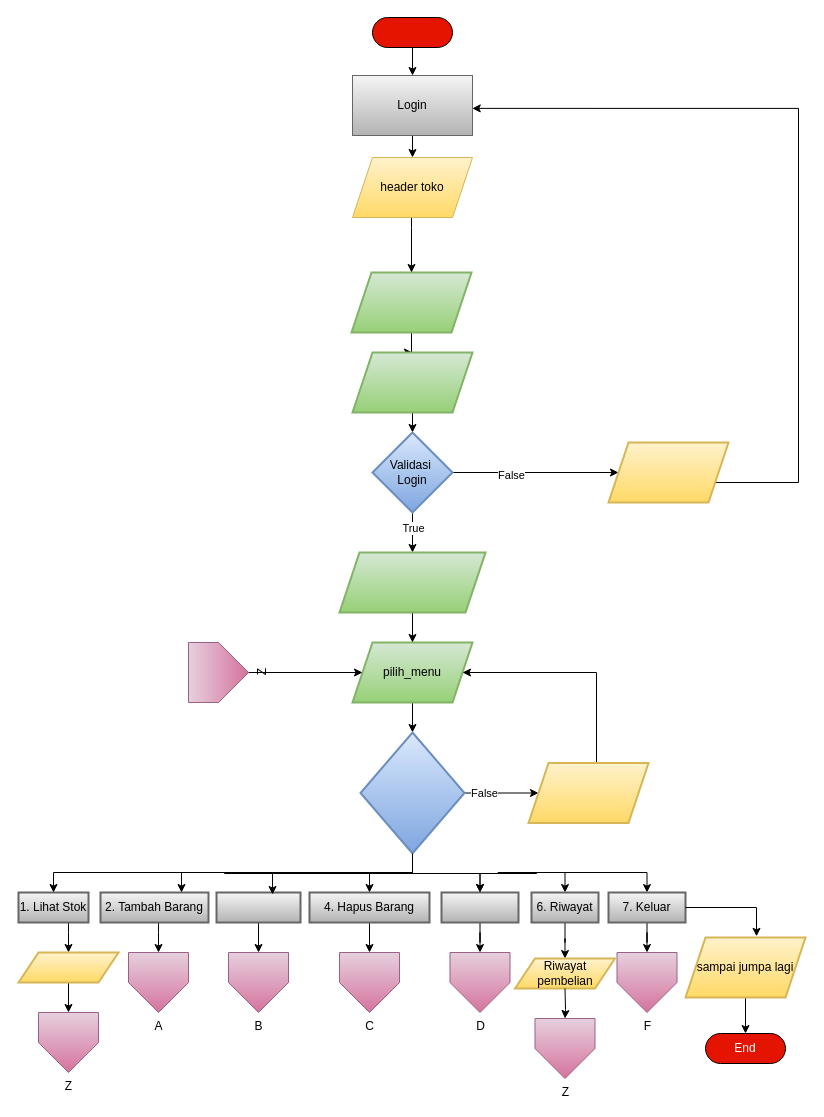
Some shapes in this 824 by 1117 pixel diagram are drawn without their labels. Each missing label, with the centre of its shape:
"3. Edit Barang" goes at (x=258, y=907).
"5. Chekout" goes at (x=479, y=907).
"Daftar Stok Barang" goes at (x=68, y=967).
"if pilih_menu >= 1 && pilih_menu <=6" goes at (x=412, y=792).
"Masukkan Nama Lengkap Karyawan" goes at (x=412, y=582).
"Masukkan Password:" goes at (x=412, y=382).
"Masukkan Username:" goes at (x=411, y=302).
"Pastikan Username dan Password Benar!" goes at (x=668, y=472).
"Pilihan tidak valid!" goes at (x=588, y=793).
"Start" goes at (x=412, y=32).
